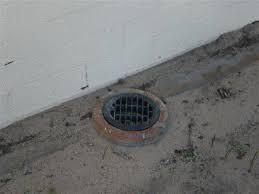open drainage-not overflowing-: (90, 84, 166, 137)
